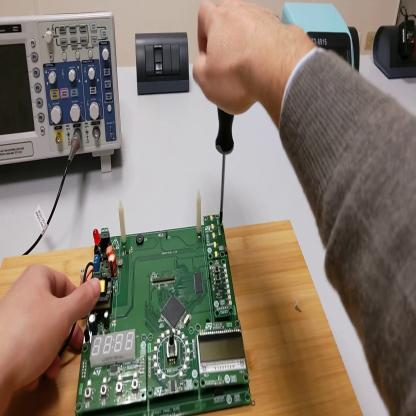hand: (2, 264, 102, 413), (195, 2, 281, 113)
low voltage board: (59, 191, 252, 416)
oscilloscope: (1, 14, 123, 175)
screwdriver-: (215, 109, 236, 226)
socket: (373, 23, 416, 78), (348, 28, 360, 73)
welder station: (282, 1, 356, 73)
working area: (4, 219, 362, 412)
